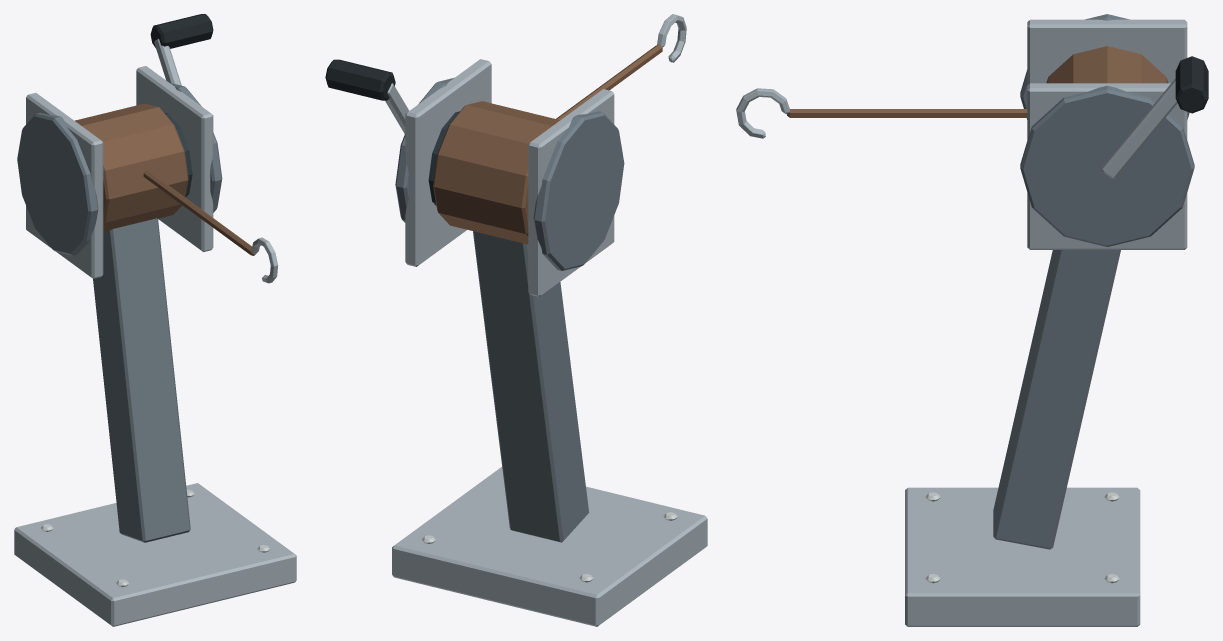
Rendered from b20_boat_launch_hand_winch_pedestal.glb.
The picture shows the model from 3 angles, left to right: view 1: azimuth 30°, elevation 25°; view 2: azimuth 150°, elevation 25°; view 3: azimuth 270°, elevation 25°; orthographic projection. The views are drawn at different scales.
Parts seen in each view (by area): view 1: b20_boat_launch_hand_winch_pedestal; view 2: b20_boat_launch_hand_winch_pedestal; view 3: b20_boat_launch_hand_winch_pedestal.
Part boxes in pixels (x1=…): b20_boat_launch_hand_winch_pedestal: x1=14, y1=14, x2=296, y2=626; b20_boat_launch_hand_winch_pedestal: x1=325, y1=14, x2=707, y2=626; b20_boat_launch_hand_winch_pedestal: x1=736, y1=14, x2=1208, y2=626.
Size of the model in its own units: 0.63 by 1.32 by 1.
